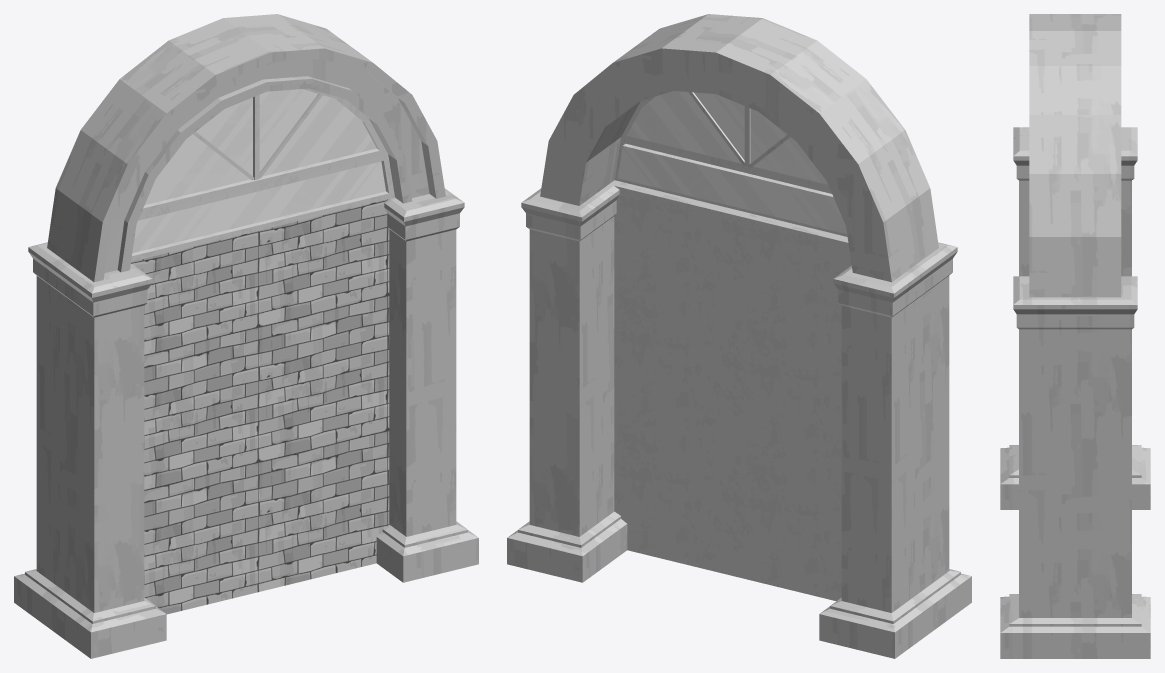
File: ArchWall_A_001.fbx
3 views of the same model, side by side, from view 1: azimuth 30°, elevation 25°; view 2: azimuth 150°, elevation 25°; view 3: azimuth 270°, elevation 25° (orthographic). The views are drawn at different scales.
Visible parts, largest first — view 1: ArchWall_A_001; view 2: ArchWall_A_001; view 3: ArchWall_A_001.
Boxes of the visible parts, x1=… form: ArchWall_A_001: x1=14, y1=14, x2=478, y2=658; ArchWall_A_001: x1=507, y1=14, x2=971, y2=658; ArchWall_A_001: x1=1000, y1=14, x2=1150, y2=658.
Bounding box in the file's own units: 301 × 406 × 103.
4 materials, 4 textured.
